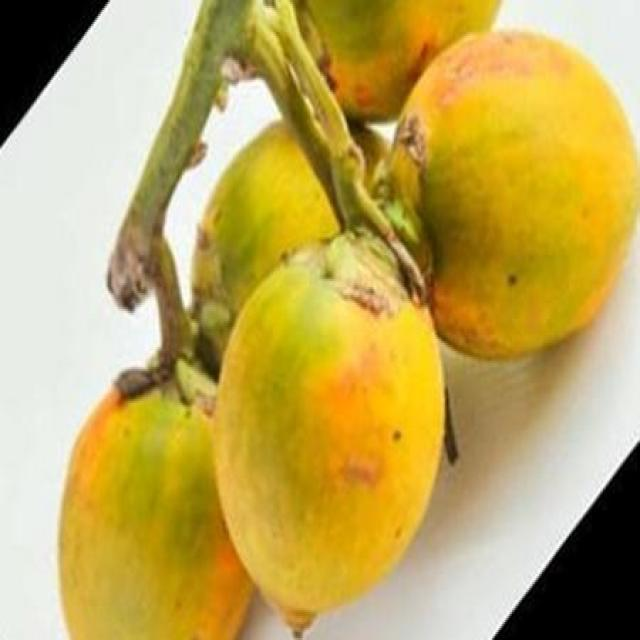good: (210, 225, 455, 638), (402, 30, 639, 363), (57, 385, 253, 638)
